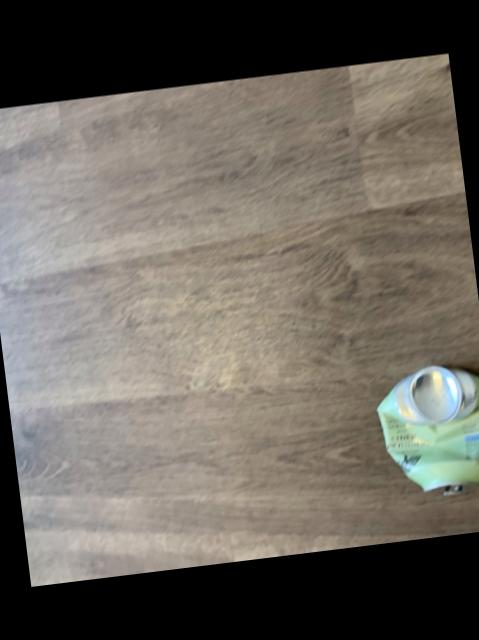metal: (374, 365, 479, 489)
